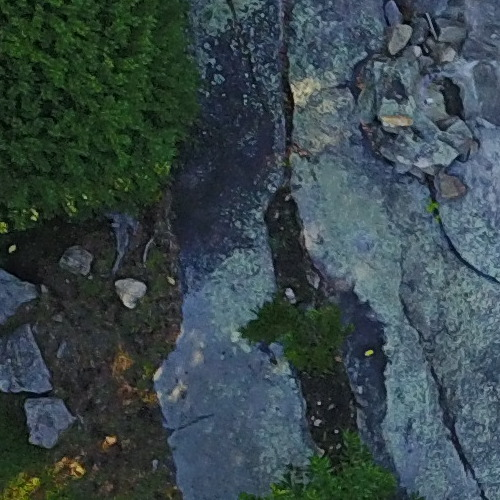larvae: (421, 62, 480, 151), (367, 57, 420, 127)
stone feature: (423, 64, 482, 153), (369, 59, 422, 129)
